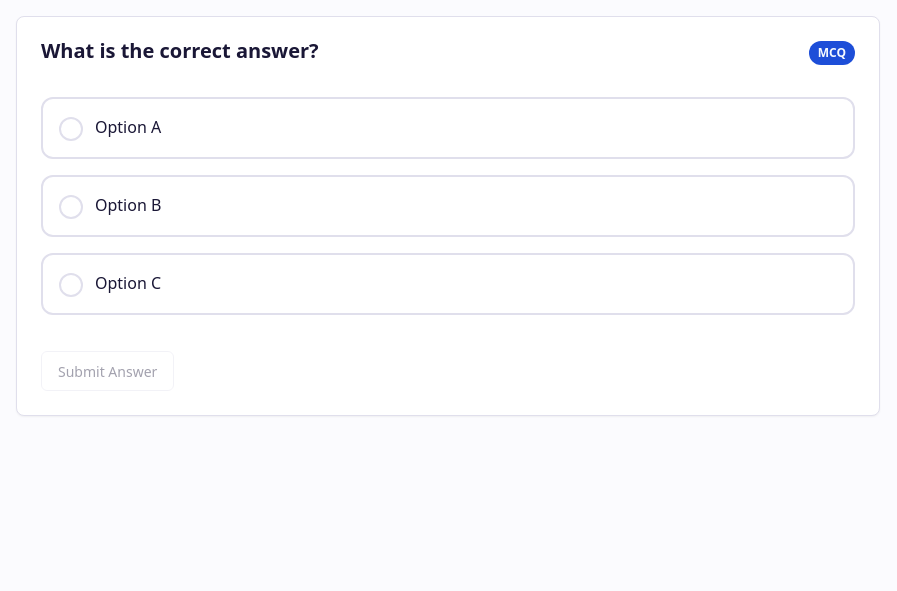
Scenario: Question Component › shows correct feedback when submitting correct answer
Click the text "Option A".
click(128, 127)  # box x1=95 y1=116 x2=161 y2=138
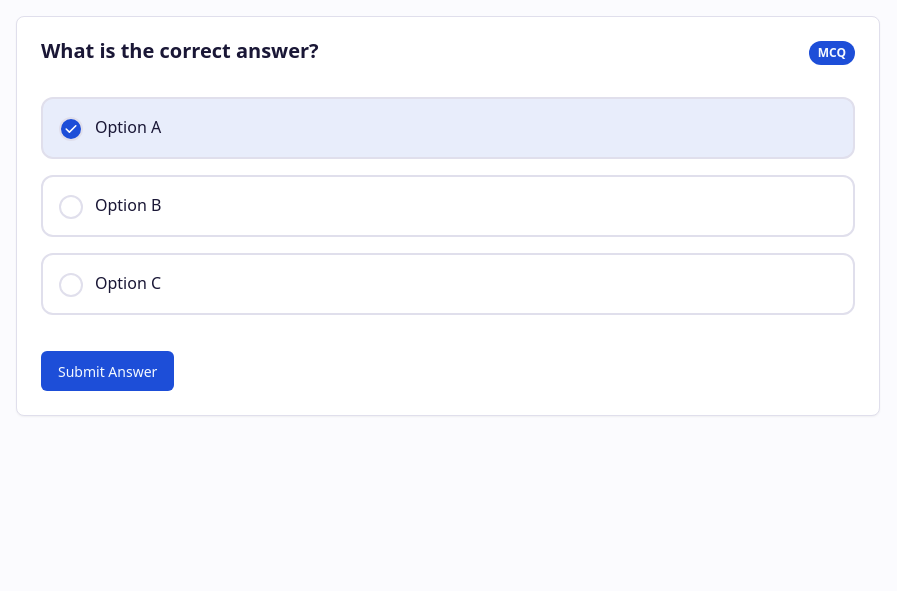
Click the button "Submit Answer".
click(108, 371)  # box x1=41 y1=351 x2=174 y2=391
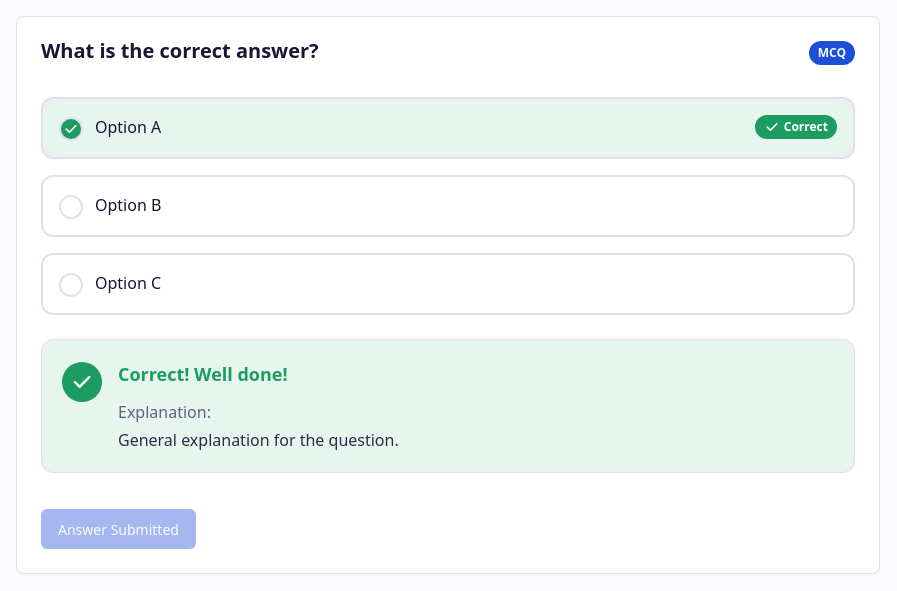
Result: the heading "Correct! Well done!" is shown at x1=118 y1=362 x2=288 y2=386
Result: the text "Explanation:" is shown at x1=118 y1=401 x2=211 y2=423
Result: the text "General explanation for the question." is shown at x1=118 y1=429 x2=399 y2=451
